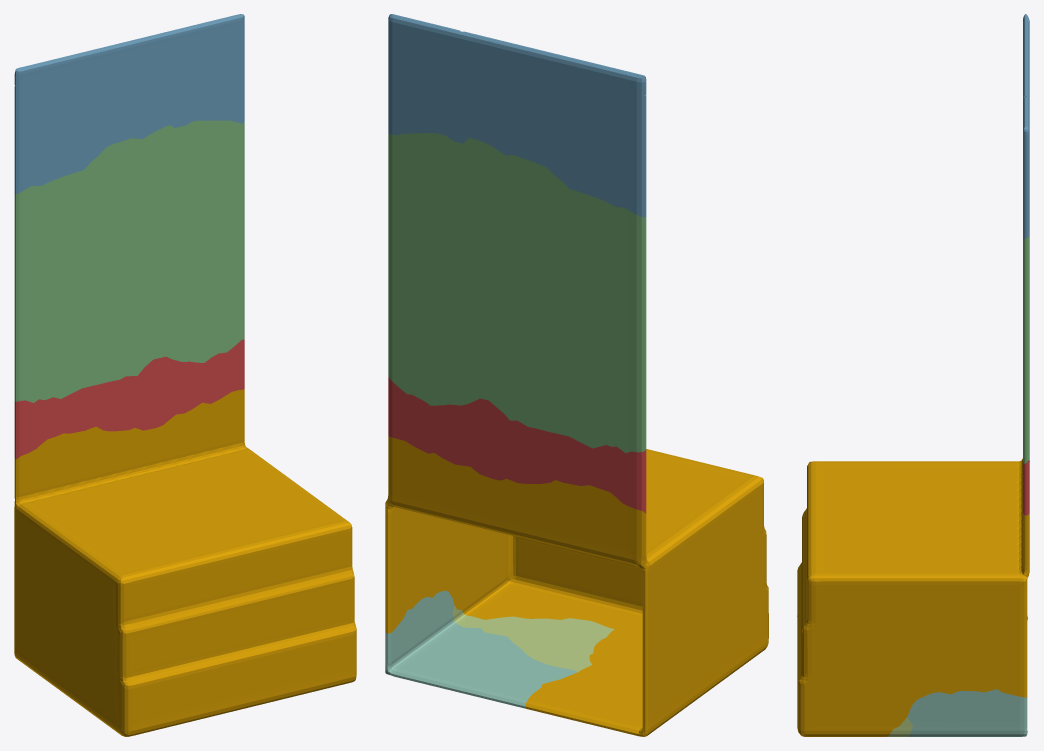
Rendered from fractured_6_6pcs.glb.
3 renders of one model, left to right at view 1: azimuth 30°, elevation 25°; view 2: azimuth 150°, elevation 25°; view 3: azimuth 270°, elevation 25°, orthographic. The views are drawn at different scales.
Visible parts, largest first — view 1: piece_0.obj, piece_3.obj, piece_2.obj, piece_1.obj; view 2: piece_0.obj, piece_3.obj, piece_2.obj, piece_1.obj, piece_4.obj, piece_5.obj; view 3: piece_0.obj, piece_4.obj, piece_3.obj, piece_2.obj.
Part boxes in pixels (x1=…): piece_0.obj: x1=14, y1=389, x2=356, y2=736; piece_3.obj: x1=14, y1=120, x2=244, y2=402; piece_2.obj: x1=14, y1=14, x2=244, y2=194; piece_1.obj: x1=14, y1=339, x2=244, y2=459; piece_0.obj: x1=385, y1=436, x2=768, y2=736; piece_3.obj: x1=388, y1=133, x2=646, y2=452; piece_2.obj: x1=388, y1=14, x2=646, y2=217; piece_1.obj: x1=388, y1=377, x2=646, y2=513; piece_4.obj: x1=385, y1=590, x2=577, y2=708; piece_5.obj: x1=452, y1=605, x2=614, y2=672; piece_0.obj: x1=797, y1=458, x2=1029, y2=736; piece_4.obj: x1=907, y1=689, x2=1027, y2=736; piece_3.obj: x1=1023, y1=235, x2=1029, y2=463; piece_2.obj: x1=1023, y1=14, x2=1029, y2=238.
Size of the model in its own units: 0.4162 by 1 by 0.3467.
